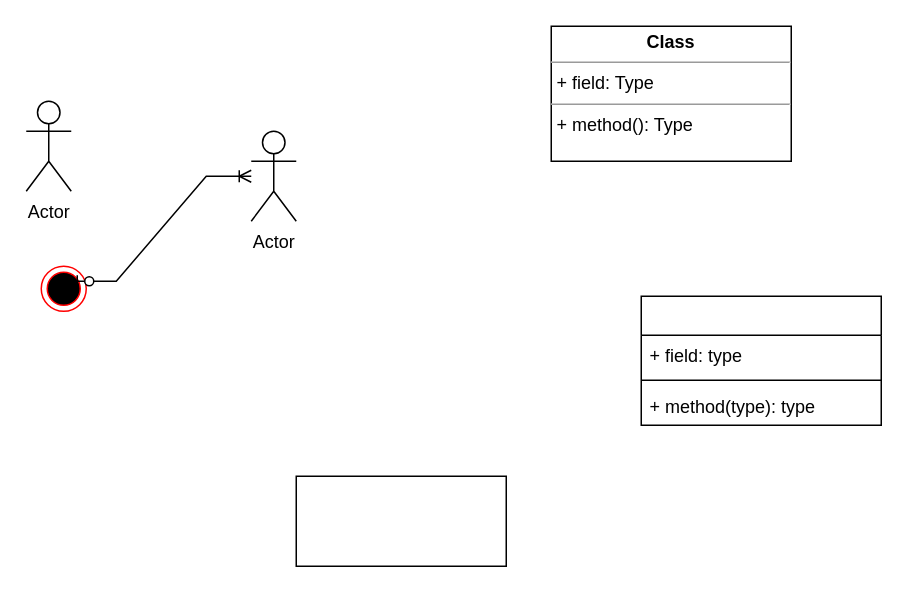
Image size: 908x593. Some labels were removed from this diagram. Here are the shapes that lost their labels. From the top down, the box of each, then its label:
(640, 295, 881, 425): Classname
(295, 475, 506, 566): Class
